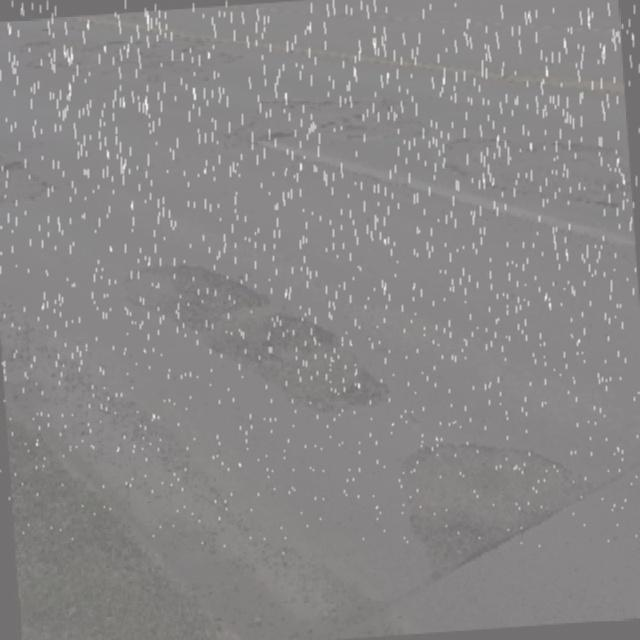Pothole: (116, 246, 393, 417), (390, 438, 592, 584), (431, 122, 640, 218), (235, 104, 299, 150)
